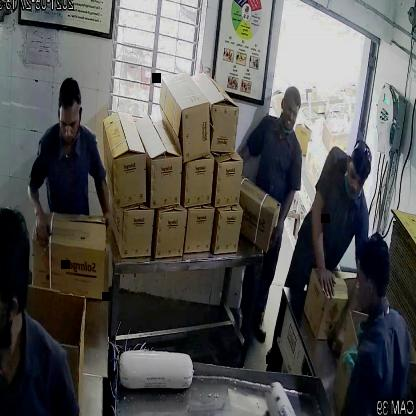no_goggles: (272, 102, 307, 122), (53, 113, 84, 134)
